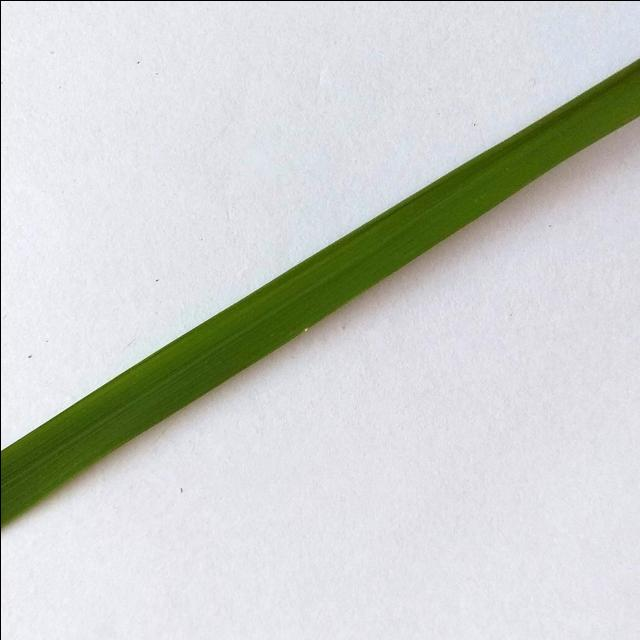healthy: (0, 29, 640, 540)
